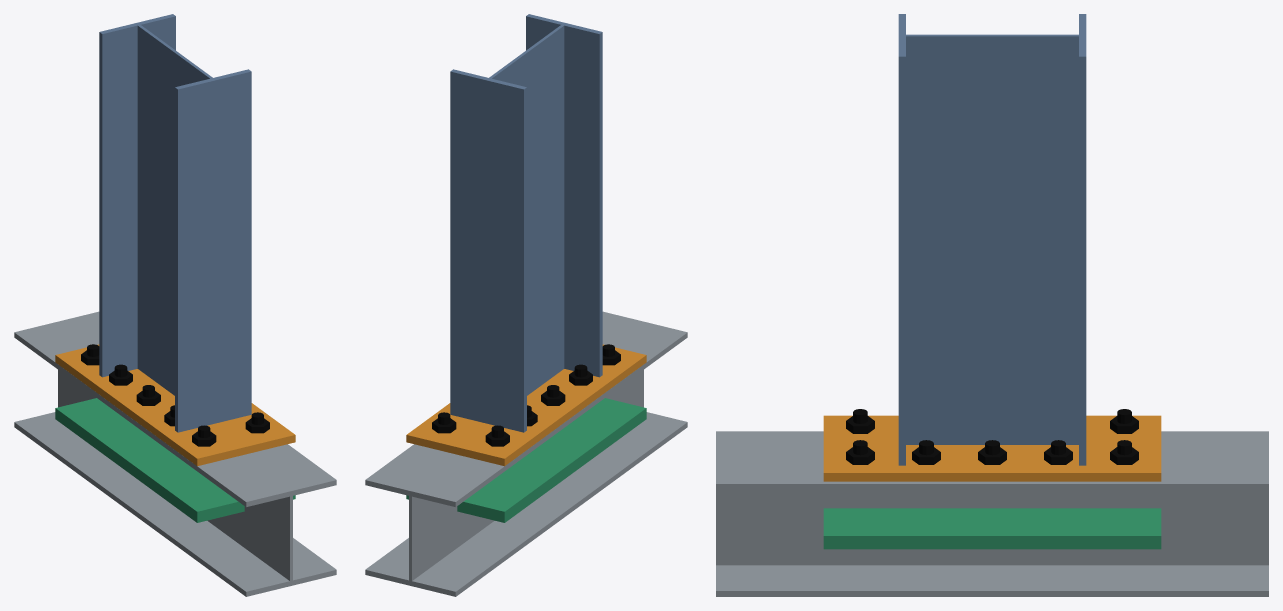
File: detail_A4_beam_to_column_flange_connection.obj
3 views of the same model, side by side, from view 1: azimuth 30°, elevation 25°; view 2: azimuth 150°, elevation 25°; view 3: azimuth 270°, elevation 25° (orthographic). The views are drawn at different scales.
Parts seen in each view (by area): view 1: A4_beam_to_column_flange_top_flange, A4_beam_to_column_flange_bottom_flange, A4_beam_to_column_flange_web, A4_UC203x203_column_flange_near, A4_UC203x203_column_flange_far, A4_PL8_column_stiffener, A4_PL16_end_plate_220x550, A4_UC203x203_column_web; view 2: A4_beam_to_column_flange_bottom_flange, A4_beam_to_column_flange_top_flange, A4_beam_to_column_flange_web, A4_UC203x203_column_flange_near, A4_UC203x203_column_flange_far, A4_PL8_column_stiffener, A4_PL16_end_plate_220x550, A4_UC203x203_column_web; view 3: A4_beam_to_column_flange_web, A4_UC203x203_column_web, A4_UC203x203_column_flange_near, A4_UC203x203_column_flange_far, A4_PL8_column_stiffener, A4_PL16_end_plate_220x550, A4_beam_to_column_flange_top_flange, A4_beam_to_column_flange_bottom_flange.
Part boxes in pixels (x1,y1,x2,y2): A4_beam_to_column_flange_top_flange: (175, 69, 251, 432); A4_beam_to_column_flange_bottom_flange: (99, 14, 175, 377); A4_beam_to_column_flange_web: (137, 25, 212, 395); A4_UC203x203_column_flange_near: (14, 412, 336, 596); A4_UC203x203_column_flange_far: (14, 311, 336, 507); A4_PL8_column_stiffener: (55, 398, 295, 522); A4_PL16_end_plate_220x550: (55, 344, 295, 466); A4_UC203x203_column_web: (58, 370, 292, 580); A4_beam_to_column_flange_bottom_flange: (450, 69, 526, 432); A4_beam_to_column_flange_top_flange: (526, 14, 602, 377); A4_beam_to_column_flange_web: (489, 25, 564, 395); A4_UC203x203_column_flange_near: (365, 412, 687, 596); A4_UC203x203_column_flange_far: (365, 311, 687, 507); A4_PL8_column_stiffener: (406, 398, 646, 522); A4_PL16_end_plate_220x550: (406, 344, 646, 466); A4_UC203x203_column_web: (409, 370, 643, 580); A4_beam_to_column_flange_web: (906, 34, 1078, 444); A4_UC203x203_column_web: (716, 490, 1268, 565); A4_UC203x203_column_flange_near: (716, 565, 1268, 596); A4_UC203x203_column_flange_far: (716, 431, 1268, 489); A4_PL8_column_stiffener: (823, 508, 1161, 549); A4_PL16_end_plate_220x550: (823, 415, 1161, 481); A4_beam_to_column_flange_top_flange: (898, 14, 905, 465); A4_beam_to_column_flange_bottom_flange: (1079, 14, 1086, 465).
Bounding box in the file's own units: 220 × 962 × 900.
